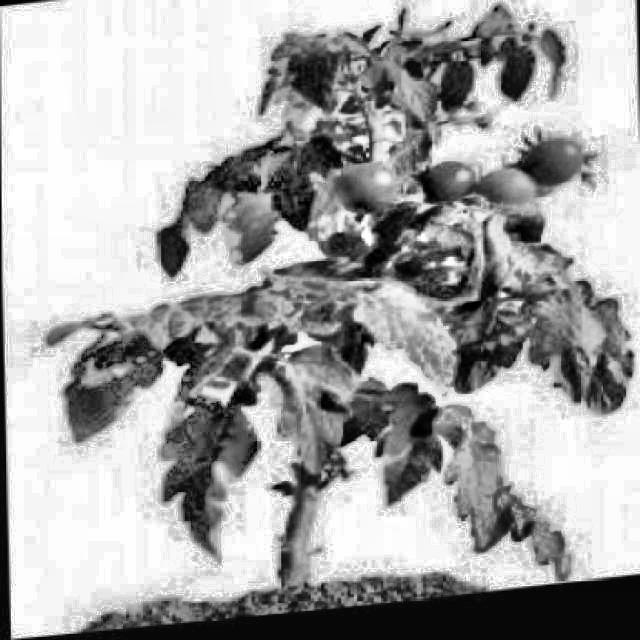plants: (41, 0, 632, 608)
